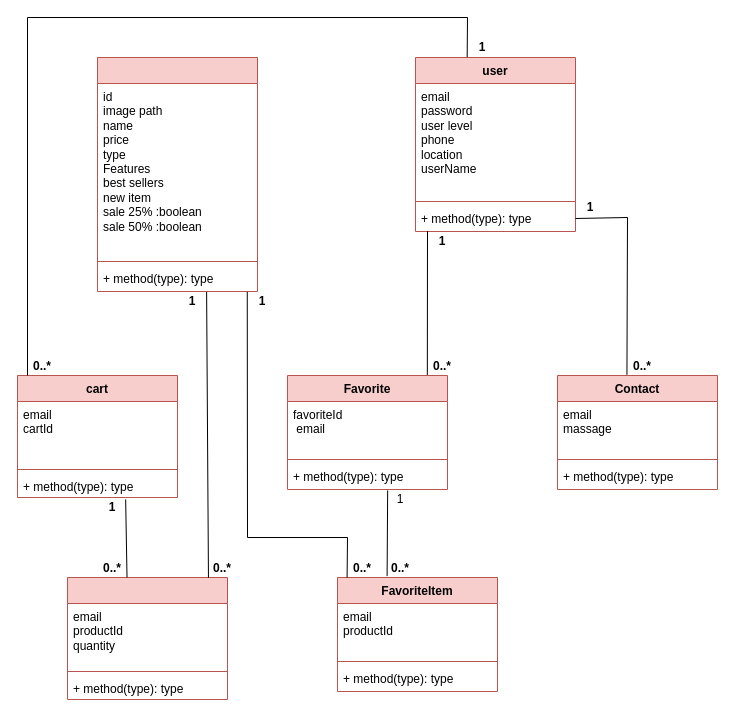
This 735x720 diagram has some shape labels left out. The box of each missing label's shape, as (x1, y1, x2, y2) in pixels:
CartItem: (66, 576, 228, 700)
prodauct: (96, 56, 258, 292)
